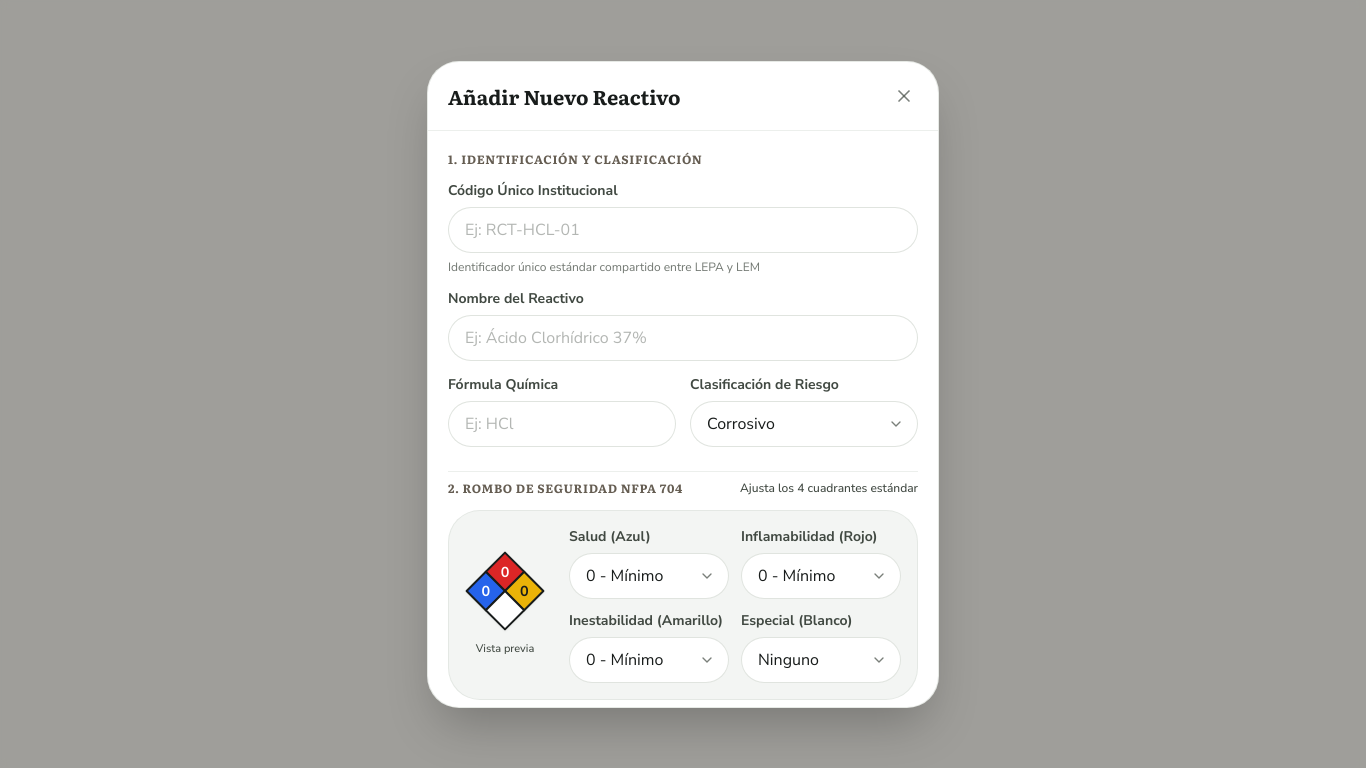
ReagentFormModal Component › shows duplicate error if code is already taken
Type "RCT-HCL-01" into the field with placeholder "Ej: RCT-HCL-01" at (683, 230), box [448,206,918,252]
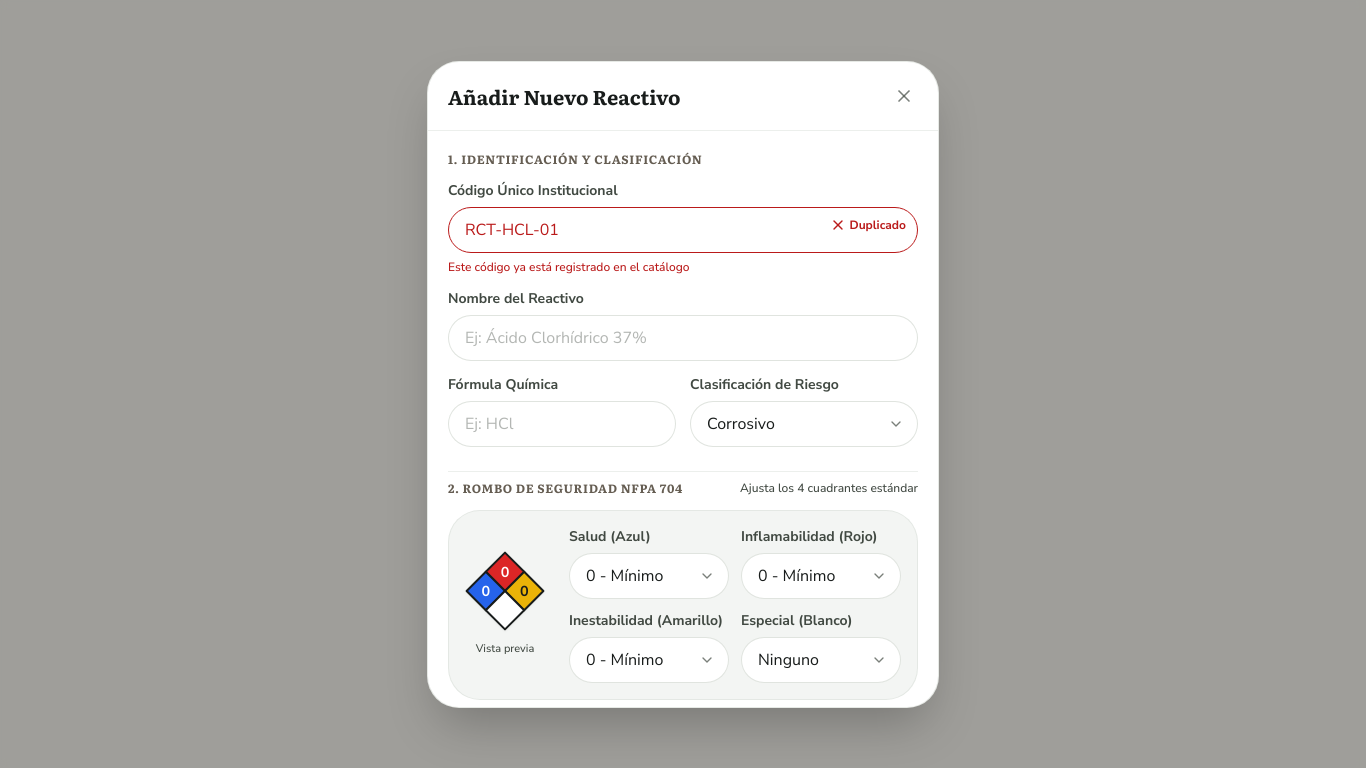
Now the text "Este código ya está registrado en el catálogo" is shown, box [448,258,690,274]
